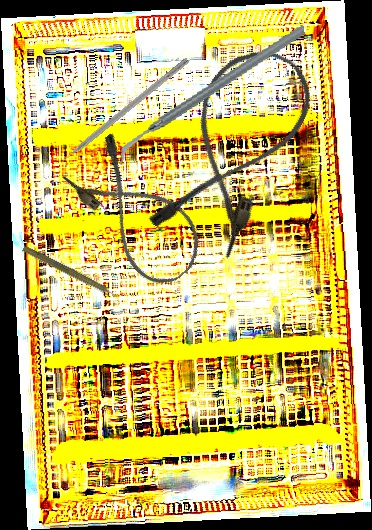Cannula: (141, 32, 326, 264), (57, 129, 216, 296)
Chopper: (101, 24, 322, 165), (46, 50, 190, 171)
Handpiece: (20, 243, 125, 306)
